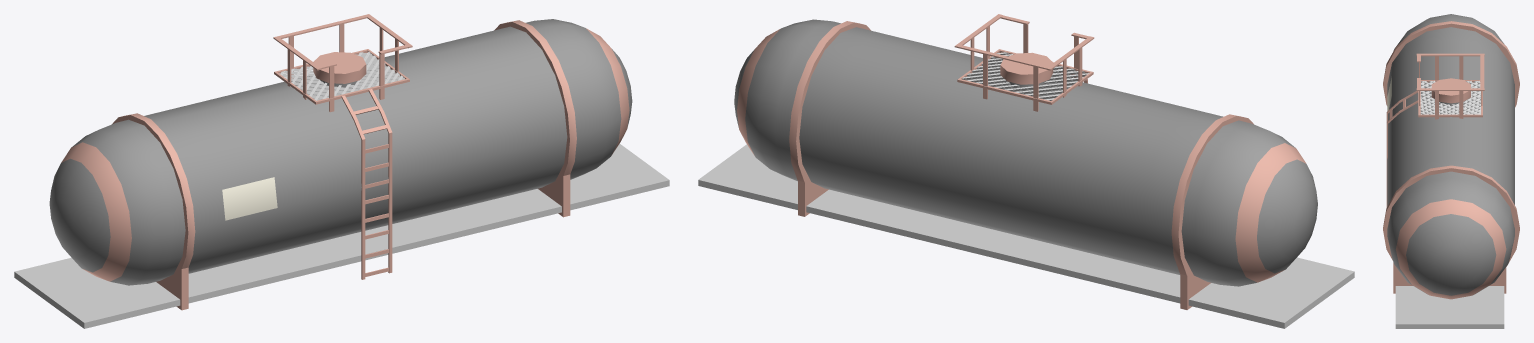
File: props33.fbx
3 views of the same model, side by side, from view 1: azimuth 30°, elevation 25°; view 2: azimuth 150°, elevation 25°; view 3: azimuth 270°, elevation 25° (orthographic). The views are drawn at different scales.
Parts seen in each view (by area): view 1: Cube_1; view 2: Cube_1; view 3: Cube_1.
Part boxes in pixels (<box>): Cube_1: <box>14,14,669,328</box>; Cube_1: <box>698,14,1354,328</box>; Cube_1: <box>1383,14,1519,328</box>.
Size of the model in its own units: 1516 by 502 by 396.
